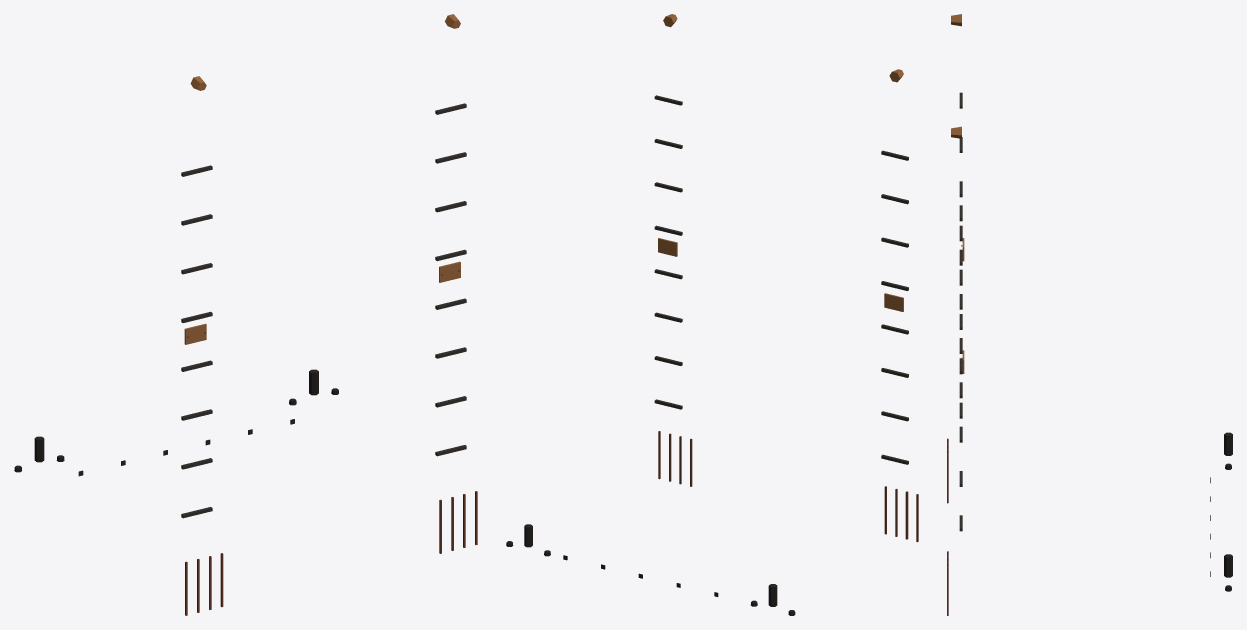
File: trebuchet_detail2.glb
The picture shows the model from 3 angles, left to right: view 1: azimuth 30°, elevation 25°; view 2: azimuth 150°, elevation 25°; view 3: azimuth 270°, elevation 25°; orthographic projection. The views are drawn at different scales.
Parts seen in each view (by area): view 1: trebuchet_detail2.001; view 2: trebuchet_detail2.001; view 3: trebuchet_detail2.001.
Part boxes in pixels (box(x1,y1,x2,y2)): trebuchet_detail2.001: box(14, 14, 477, 615); trebuchet_detail2.001: box(506, 14, 918, 615); trebuchet_detail2.001: box(947, 14, 1232, 615).
Size of the model in its own units: 7.62 by 11.92 by 6.44.
